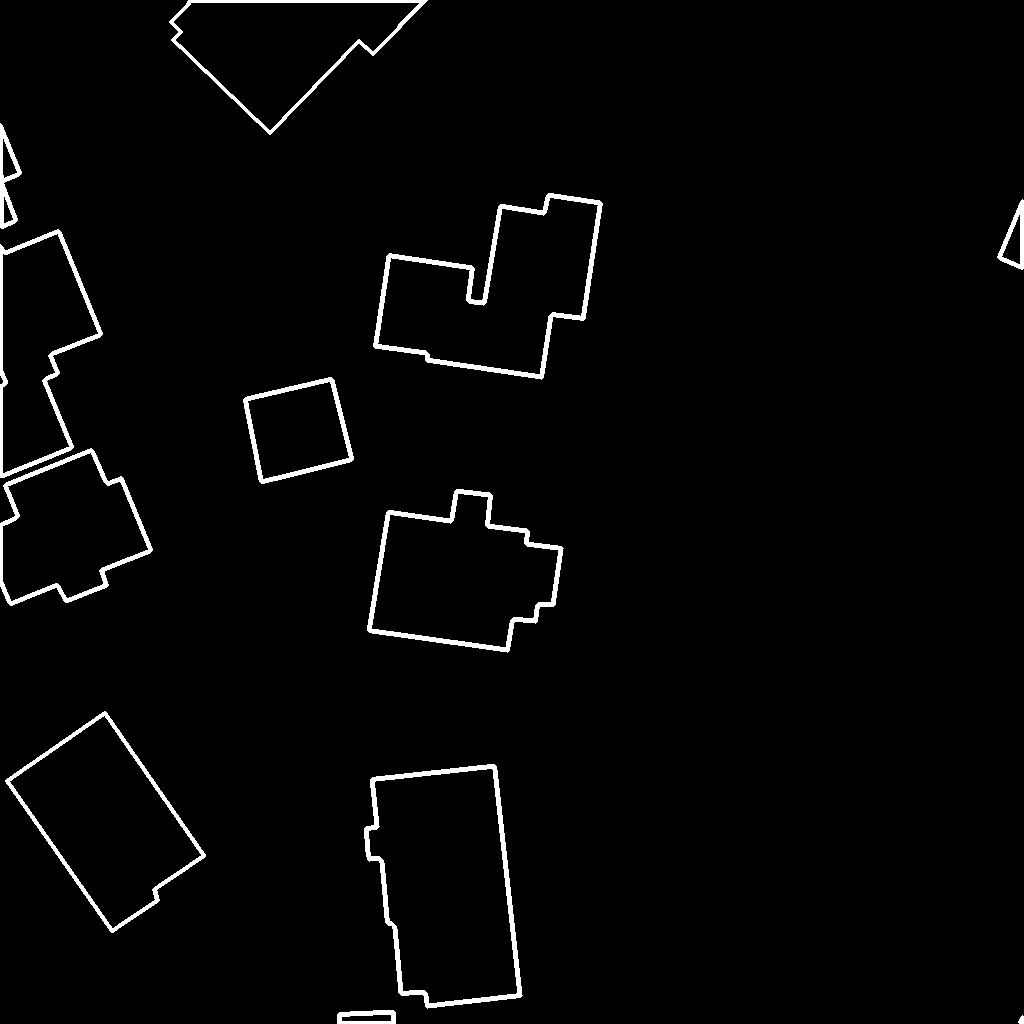building: (7, 713, 205, 932), (375, 195, 602, 378), (366, 766, 521, 1007), (0, 124, 102, 477), (171, 0, 427, 134), (369, 491, 562, 651), (0, 450, 152, 605), (245, 379, 353, 483), (999, 200, 1024, 269), (339, 1012, 395, 1024), (1020, 1016, 1024, 1024)
